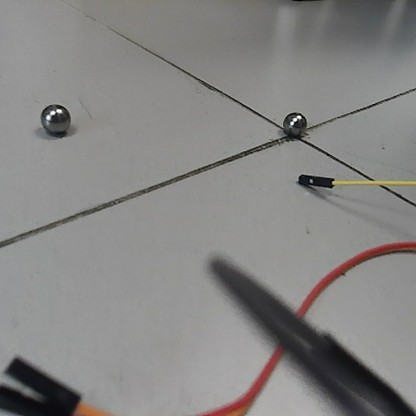ironball: (39, 102, 73, 135), (282, 110, 308, 135)
